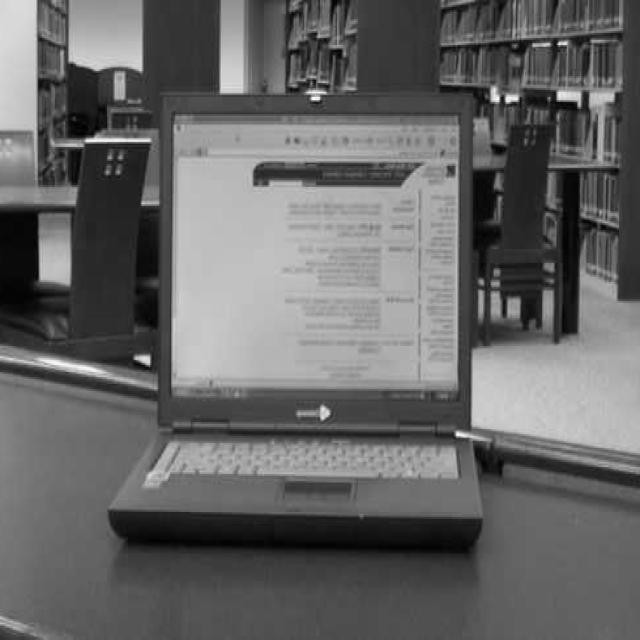laptop: (126, 88, 486, 594)
